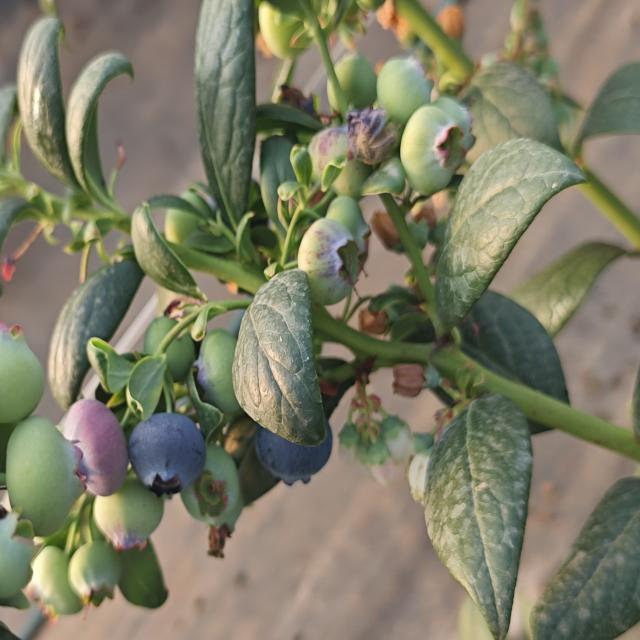ripe: (255, 392, 335, 497), (127, 409, 208, 499)
